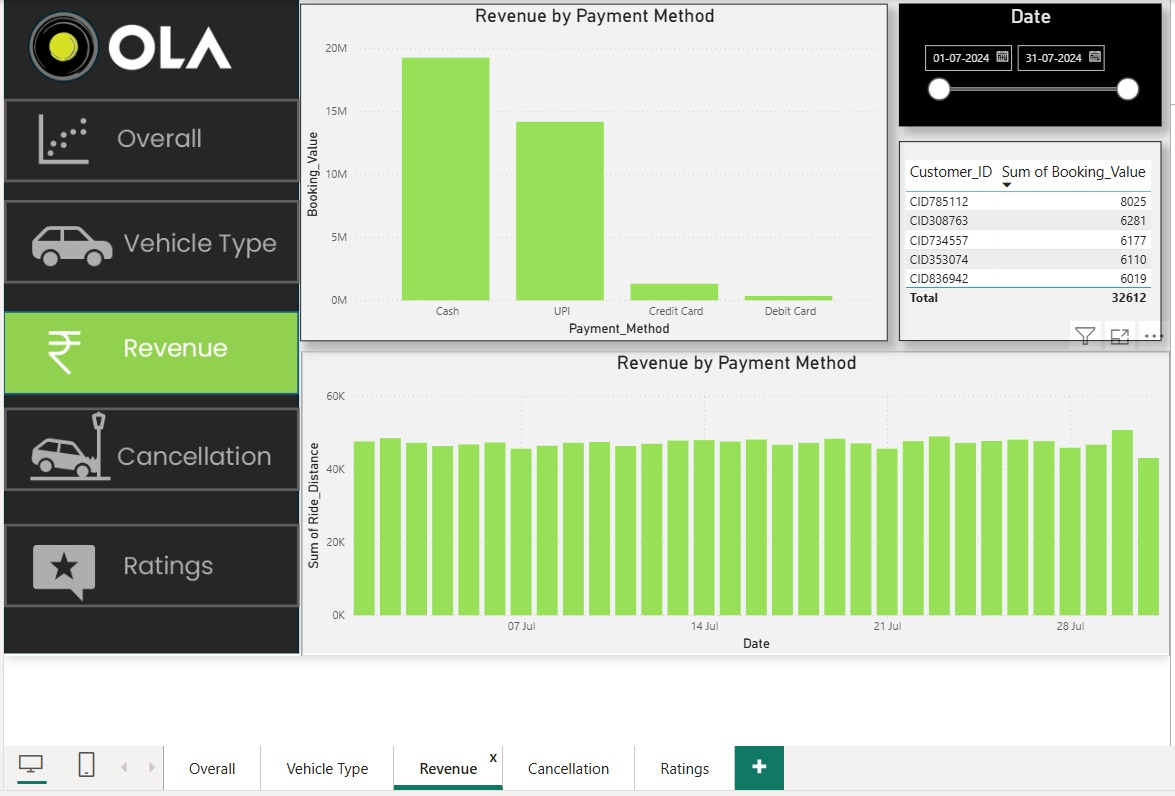

Layout of this report page (visuals, bound fields, positions):
{"tool":"powerbi","page":{"name":"Revenue","canvas":[1280,720],"ordinal":2},"visuals":[{"type":"actionButton","box":[0,219.6,324.5,91.7],"z":0},{"type":"actionButton","box":[0,447.6,324.5,91.7],"z":1000},{"type":"actionButton","box":[0,575.5,324.5,91.7],"z":2000},{"type":"actionButton","box":[0,108.6,324.5,91.7],"z":3000},{"type":"columnChart","title":"Revenue by Payment Method","fields":{"Y":["Sum(July.Booking_Value)"],"Category":["July.Payment_Method"]},"box":[325.2,4.1,644.9,370.5],"z":3001},{"type":"columnChart","title":"Revenue by Payment Method","fields":{"Y":["Sum(July.Ride_Distance)"],"Category":["July.Date"]},"box":[326.6,385.6,953.7,334.8],"z":3002},{"type":"slicer","title":"Date","fields":{"Values":["July.Date"]},"box":[982.5,4.1,288.2,134.5],"z":3003},{"type":"tableEx","fields":{"Values":["July.Customer_ID","Sum(July.Booking_Value)"]},"box":[982.5,155.1,288.2,219.6],"z":3005}]}

Visuals, with their boxes in screenshot pixels (x1, y1, x2, y2):
actionButton: locate(0, 196, 294, 279)
actionButton: locate(0, 402, 294, 485)
actionButton: locate(0, 518, 294, 601)
actionButton: locate(0, 95, 294, 178)
"Revenue by Payment Method" columnChart: locate(294, 1, 878, 336)
"Revenue by Payment Method" columnChart: locate(296, 346, 1159, 649)
"Date" slicer: locate(889, 1, 1150, 122)
tableEx - July.Customer_ID x Sum(July.Booking_Value): locate(889, 137, 1150, 336)
